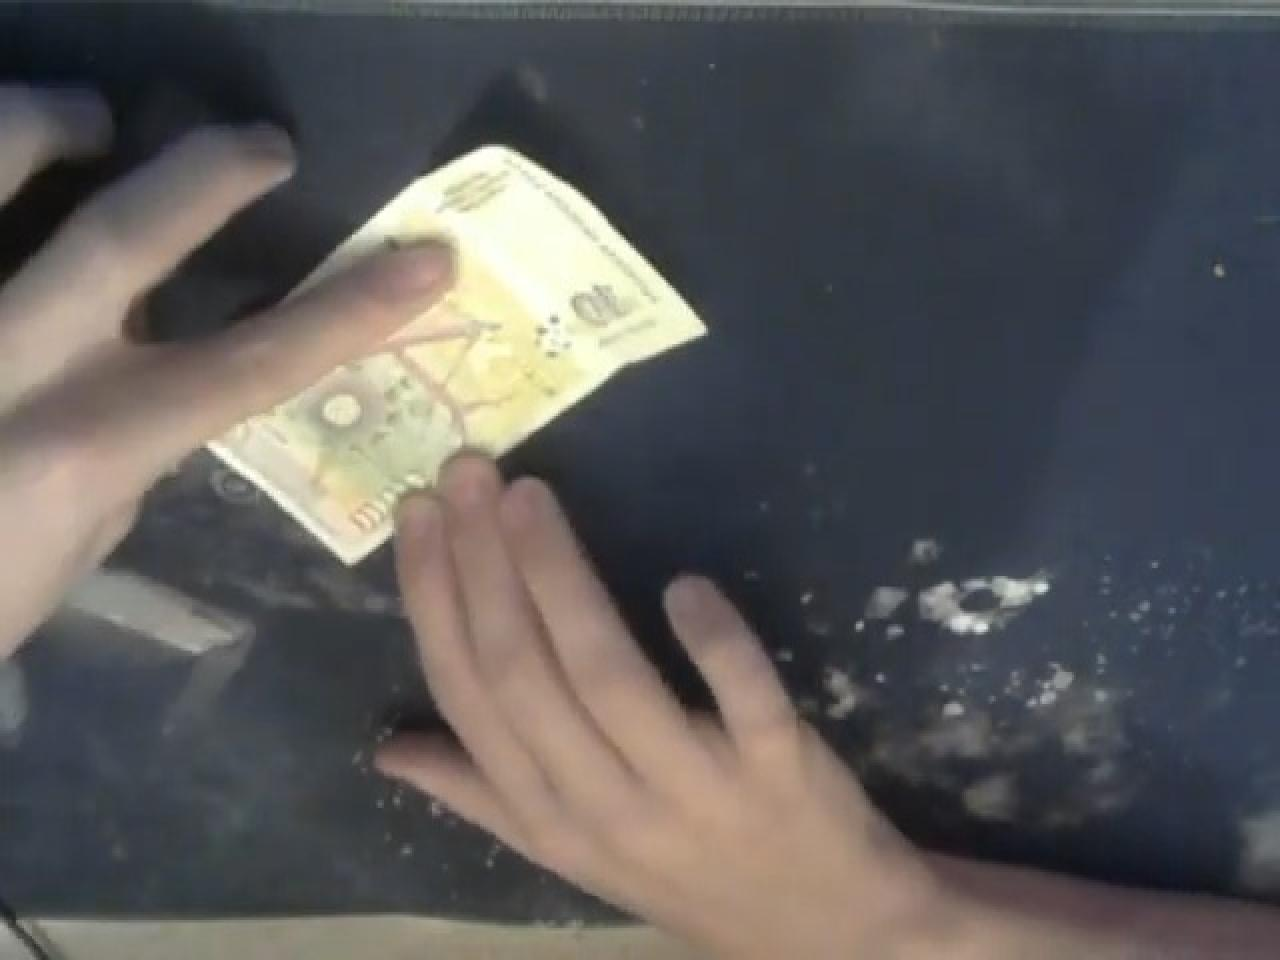10leva: (544, 251, 646, 343)
